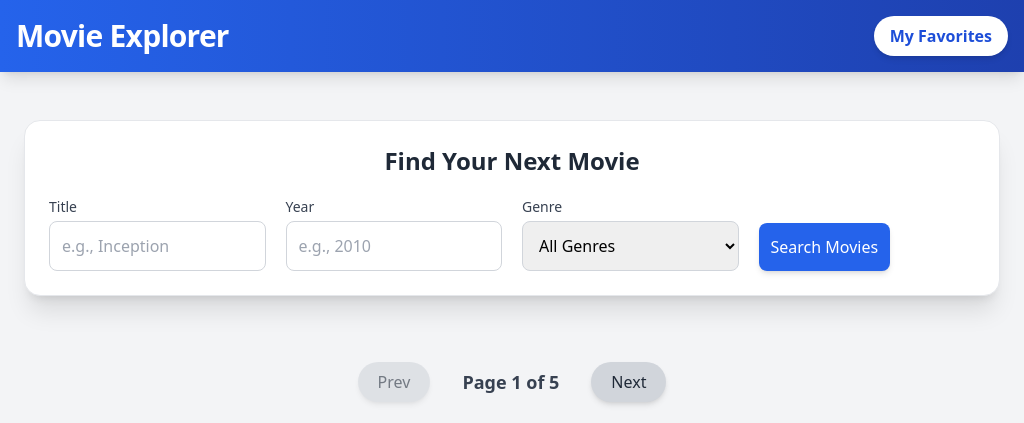
it: pages/index.vue › shows "No movies found" when result is empty
Type "UnknownMovie" into the field with id "title". click: [157, 246]
box: [49, 221, 266, 271]
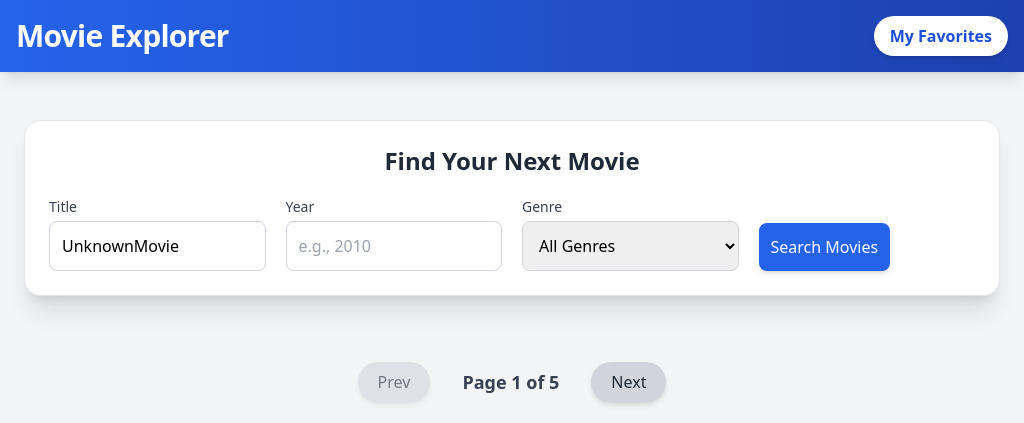
Submit the form, box [49, 197, 975, 271]
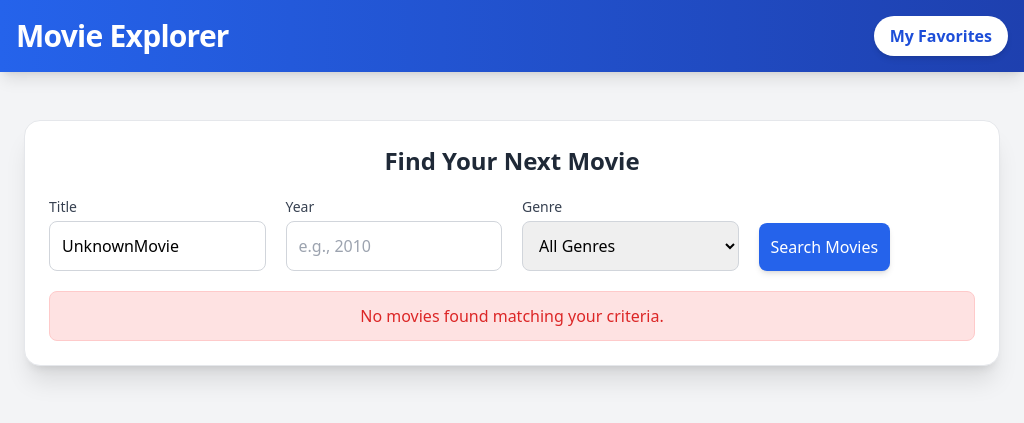
Expected: the text "No movies found matching your criteria" is shown, [360, 305, 664, 327]
